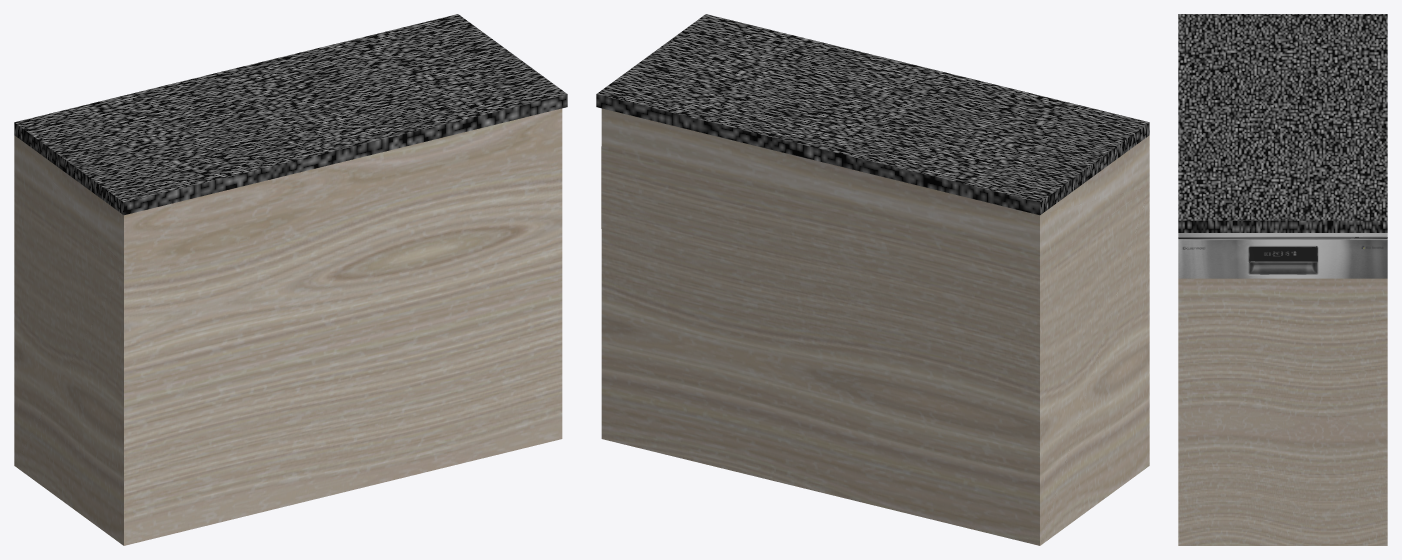
Rendered from closet_dishwasher.gltf.
The picture shows the model from 3 angles, left to right: view 1: azimuth 30°, elevation 25°; view 2: azimuth 150°, elevation 25°; view 3: azimuth 270°, elevation 25°; orthographic projection. The views are drawn at different scales.
Parts seen in each view (by area): view 1: closet_dishwasher; view 2: closet_dishwasher; view 3: closet_dishwasher.
Boxes of the visible parts, box(x1,y1,x2,y2) form: closet_dishwasher: box(14, 14, 567, 545); closet_dishwasher: box(596, 14, 1149, 545); closet_dishwasher: box(1178, 14, 1387, 545).
Bounding box in the file's own units: 1.85 × 1.37 × 0.7914.
Materials: 3 (3 with a texture image).
